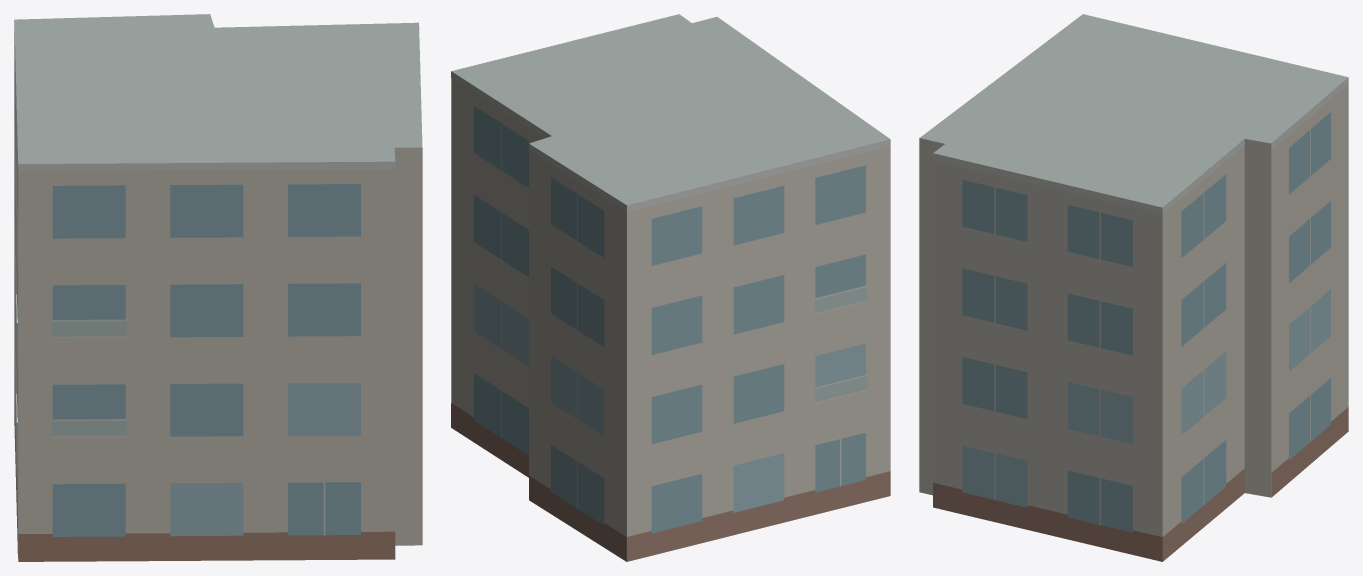
Rendered from survey-upis-32694918.glb.
The picture shows the model from 3 angles, left to right: view 1: azimuth 30°, elevation 25°; view 2: azimuth 150°, elevation 25°; view 3: azimuth 270°, elevation 25°; orthographic projection. The views are drawn at different scales.
Visible parts, largest first — view 1: survey-upis-32694918.tmp; view 2: survey-upis-32694918.tmp; view 3: survey-upis-32694918.tmp.
Part boxes in pixels (bbox=[...]): survey-upis-32694918.tmp: bbox=[14, 14, 422, 561]; survey-upis-32694918.tmp: bbox=[451, 14, 890, 561]; survey-upis-32694918.tmp: bbox=[919, 14, 1348, 561].
Bounding box in the file's own units: 14.99 × 12.78 × 14.04.
